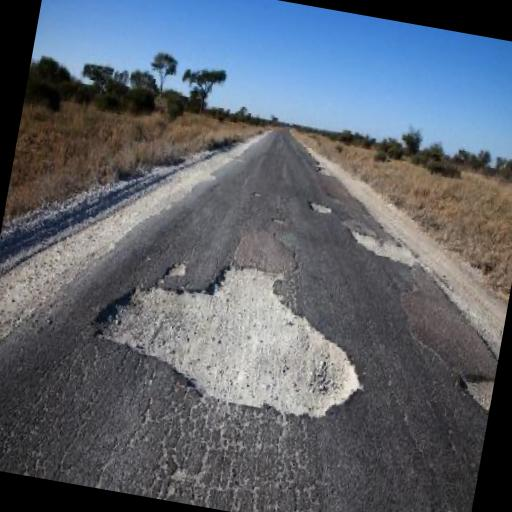pothole: (80, 236, 382, 428), (345, 220, 421, 268), (454, 365, 494, 410), (162, 257, 189, 280), (306, 196, 334, 214)
